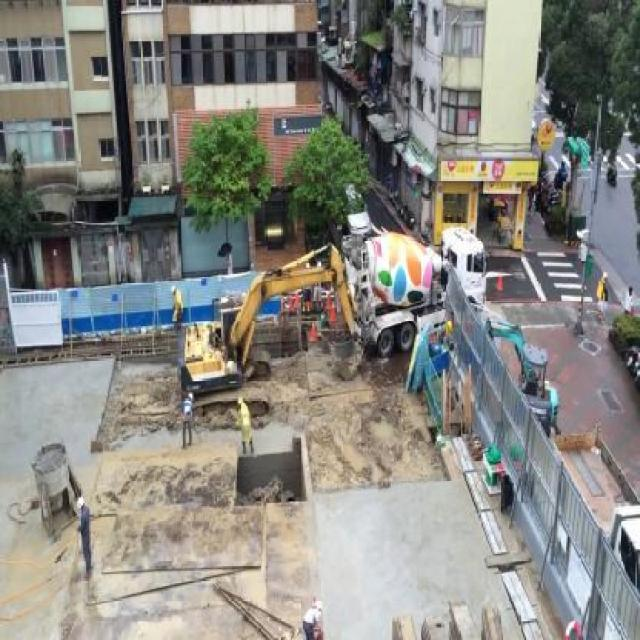excavator: (174, 243, 360, 422)
